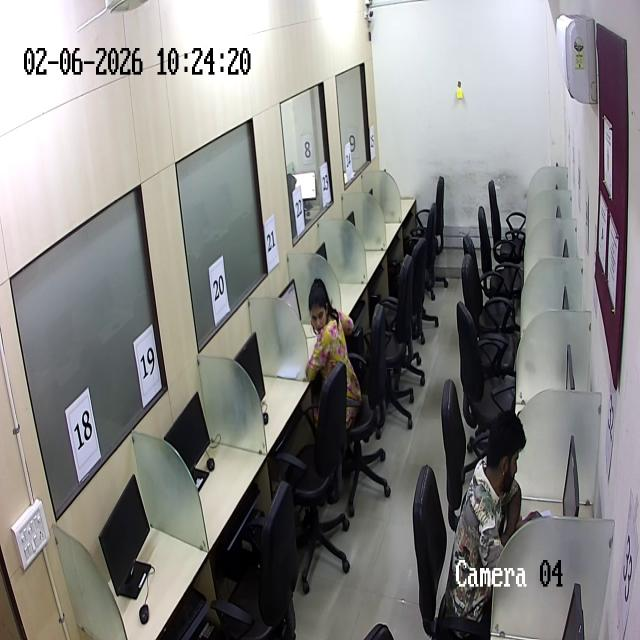phone: (521, 508, 543, 524)
